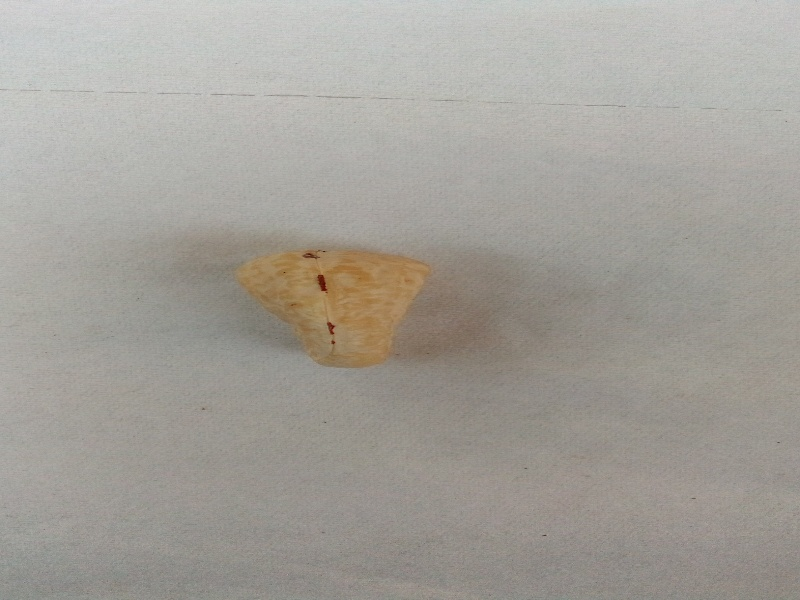cashew: (217, 205, 458, 376)
